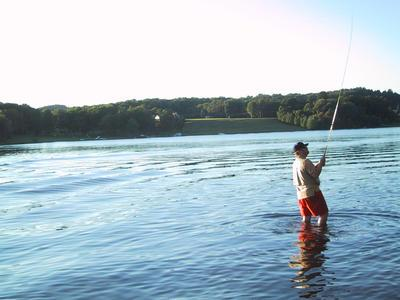person: (292, 142, 330, 228)
